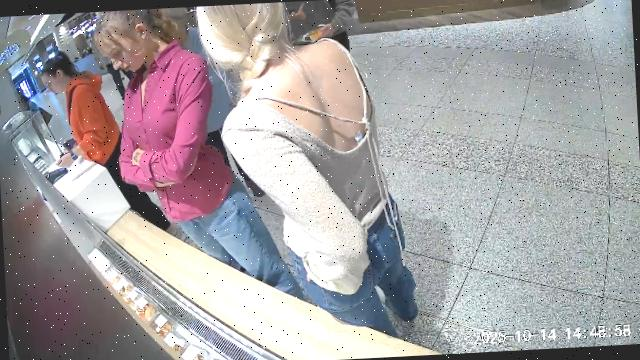sushi-box: (298, 24, 325, 44)
